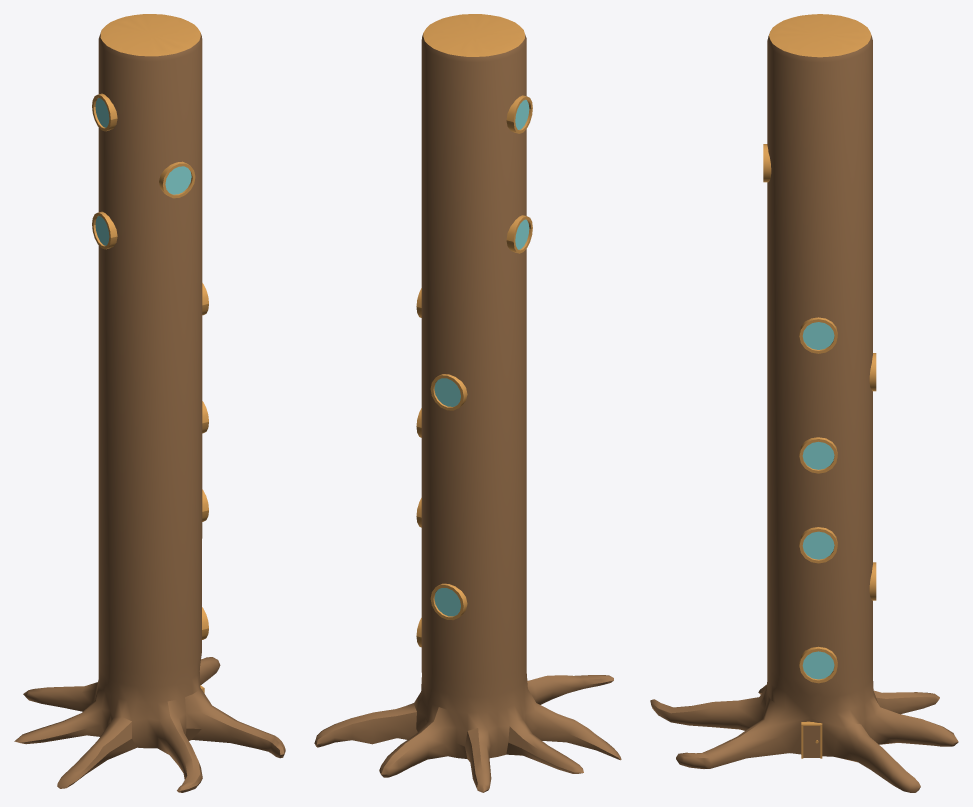
The model's file is Treehouse_large(1) 1.fbx.
3 views of the same model, side by side, from view 1: azimuth 30°, elevation 25°; view 2: azimuth 150°, elevation 25°; view 3: azimuth 270°, elevation 25° (orthographic).
Visible parts, largest first — view 1: Cube.002; view 2: Cube.002; view 3: Cube.002.
Part boxes in pixels (x1,y1,x2,y2): Cube.002: [14, 14, 285, 792]; Cube.002: [314, 14, 621, 792]; Cube.002: [650, 14, 958, 792].
Size of the model in its own units: 711 by 2051 by 800.
